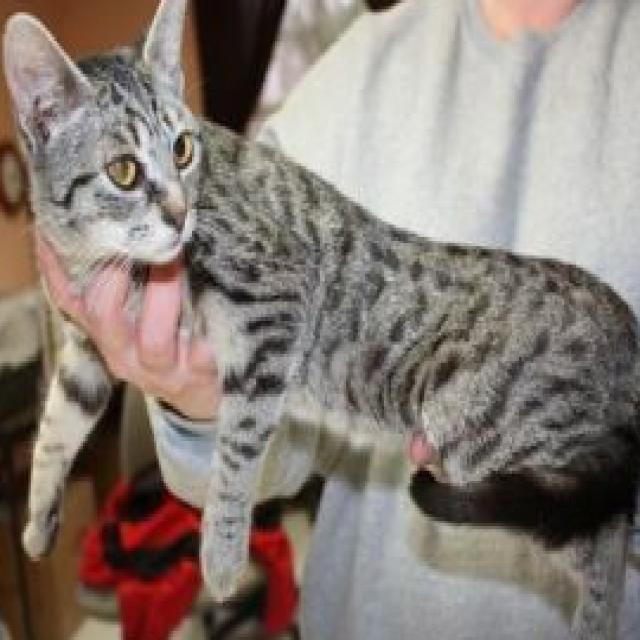Egyptian Mau: (0, 0, 640, 603)
